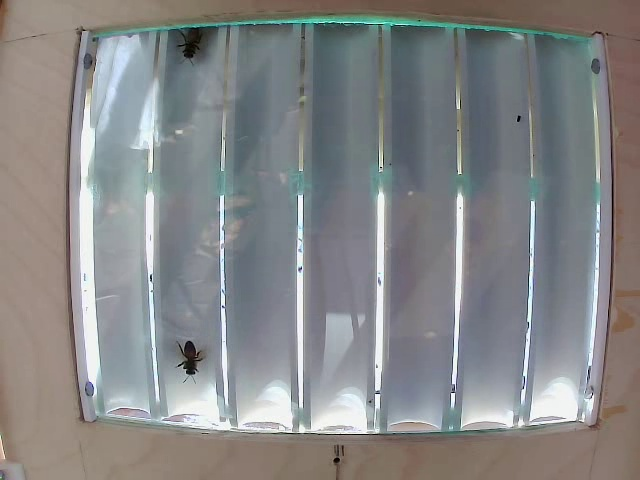bee: (172, 333, 212, 389), (176, 17, 212, 68)
